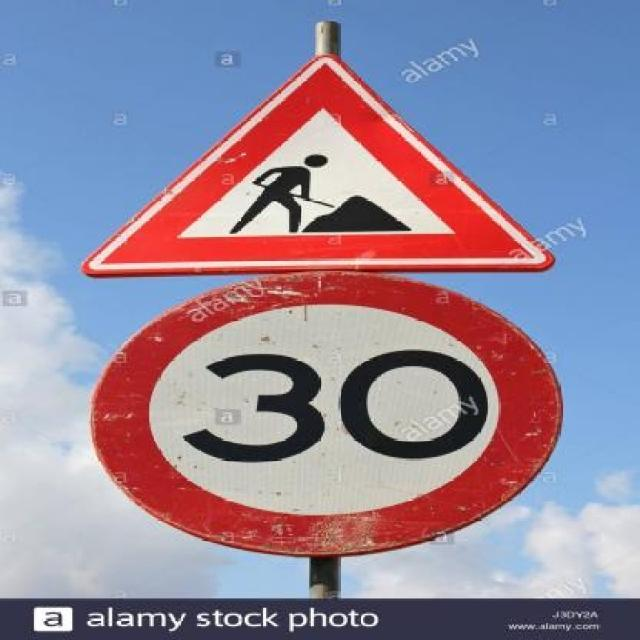forb_speed_over_30: (86, 273, 562, 555)
